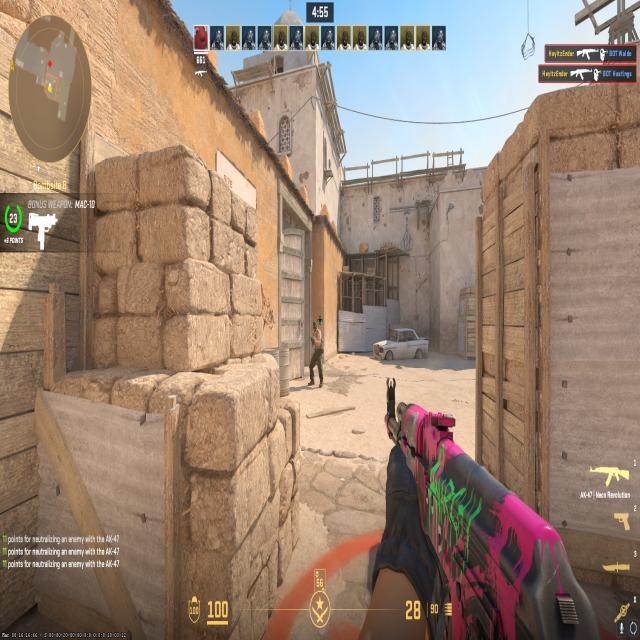t: (301, 315, 327, 393)
